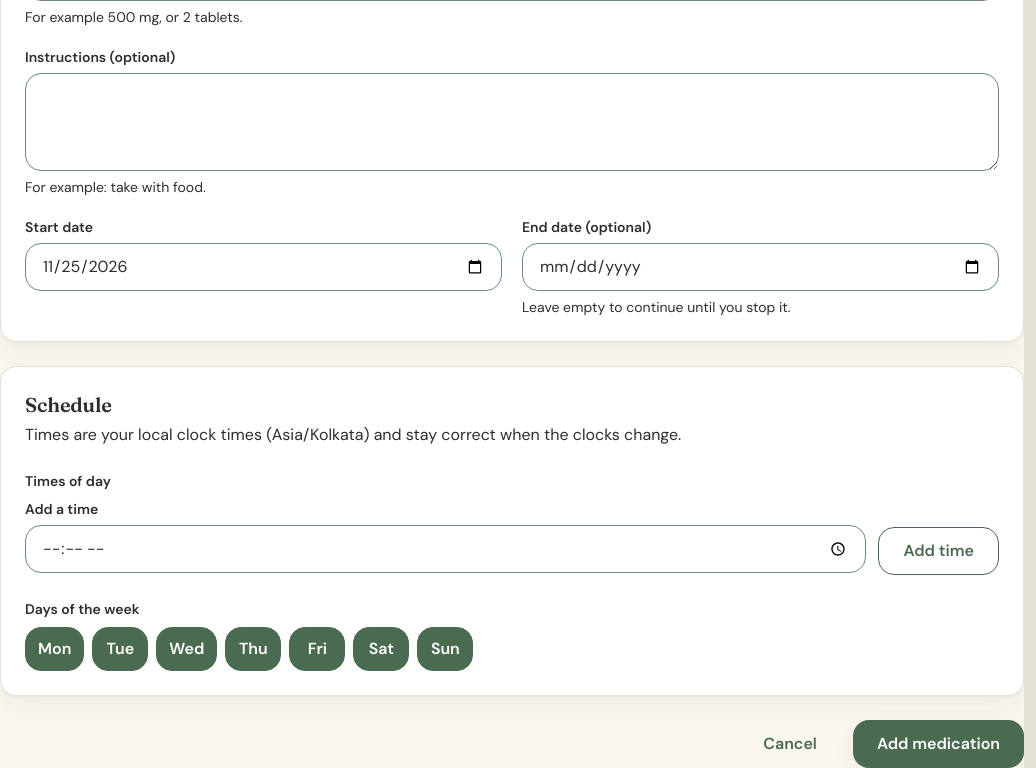
validation messages (before anything is sent) › clears a field's error as soon as the person fixes it
This screenshot has width=1036, height=768.
(page scrolled)
Click the button "Add medication": click(938, 744) [853,720,1024,767]
(page scrolled)
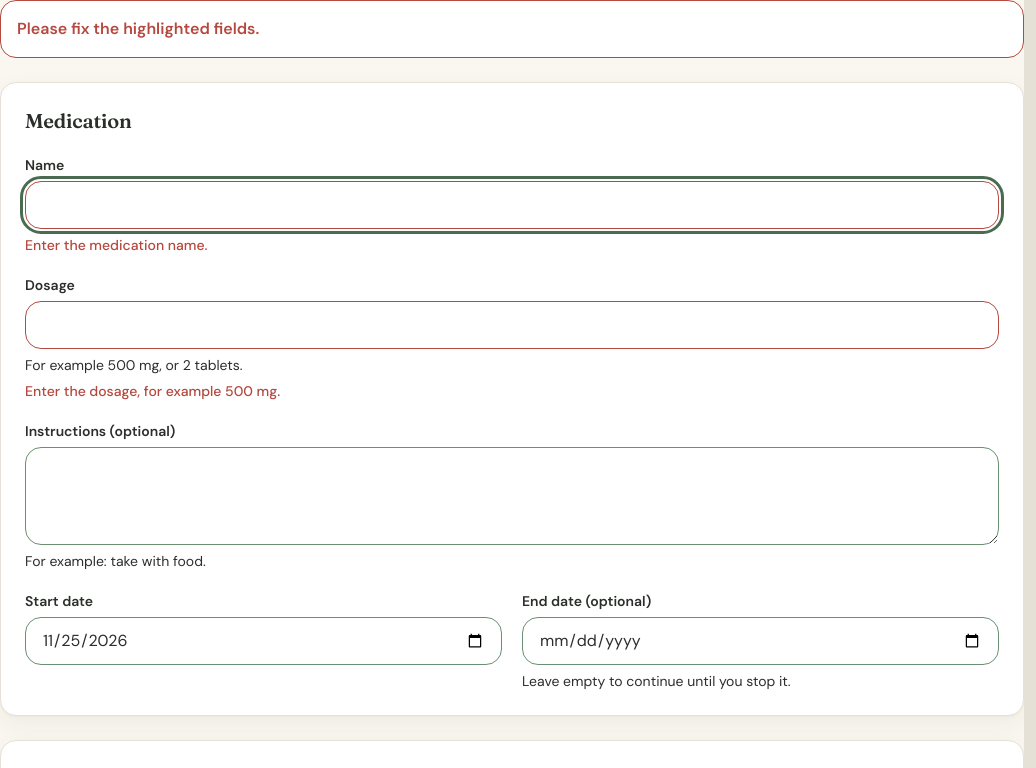
In the field labelled "Name": (512, 205) [25,181,999,229], type "A"
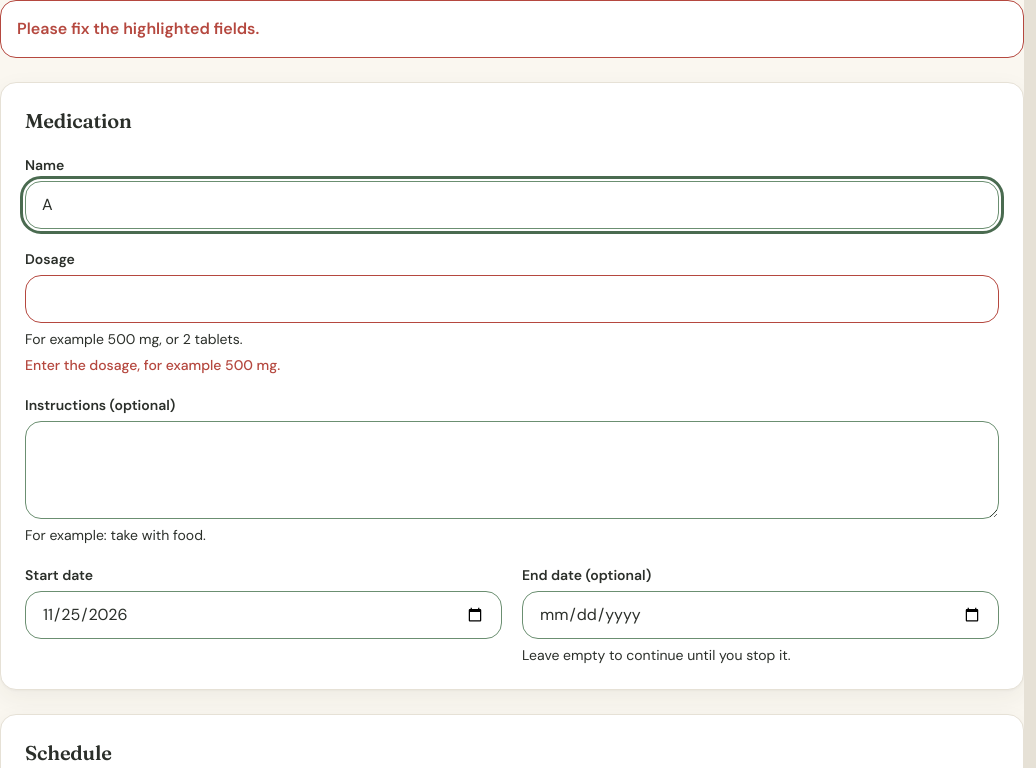
Check: the text "Enter the dosage, for example 500 mg." is shown, box [25,356,280,374]
Check: the text "Enter the medication name." is gone
